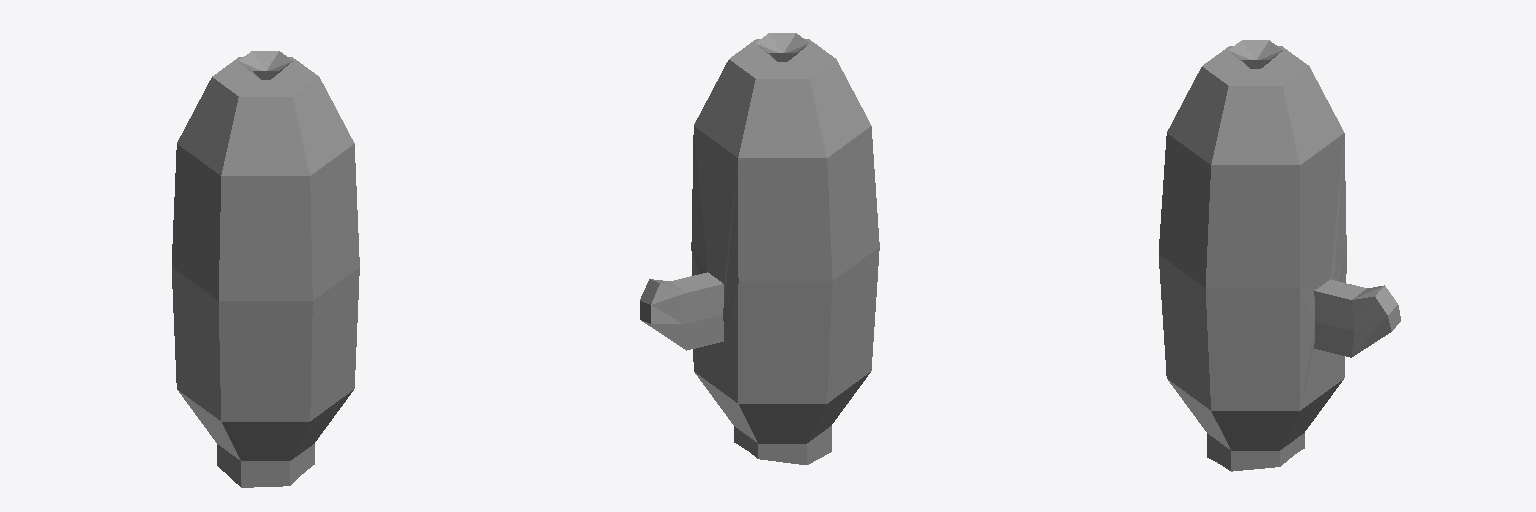
Rendered from Cactus3.obj.
The picture shows the model from 3 angles: view 1: azimuth 30°, elevation 25°; view 2: azimuth 150°, elevation 25°; view 3: azimuth 270°, elevation 25°; orthographic projection.
Parts seen in each view (by area): view 1: Cube.001_Cube.004; view 2: Cube.001_Cube.004; view 3: Cube.001_Cube.004.
Part boxes in pixels (x1,y1,x2,y2): Cube.001_Cube.004: (172,51,359,487); Cube.001_Cube.004: (640,33,879,464); Cube.001_Cube.004: (1159,40,1400,471).
Bounding box in the file's own units: 0.65 × 1.7 × 0.9172.